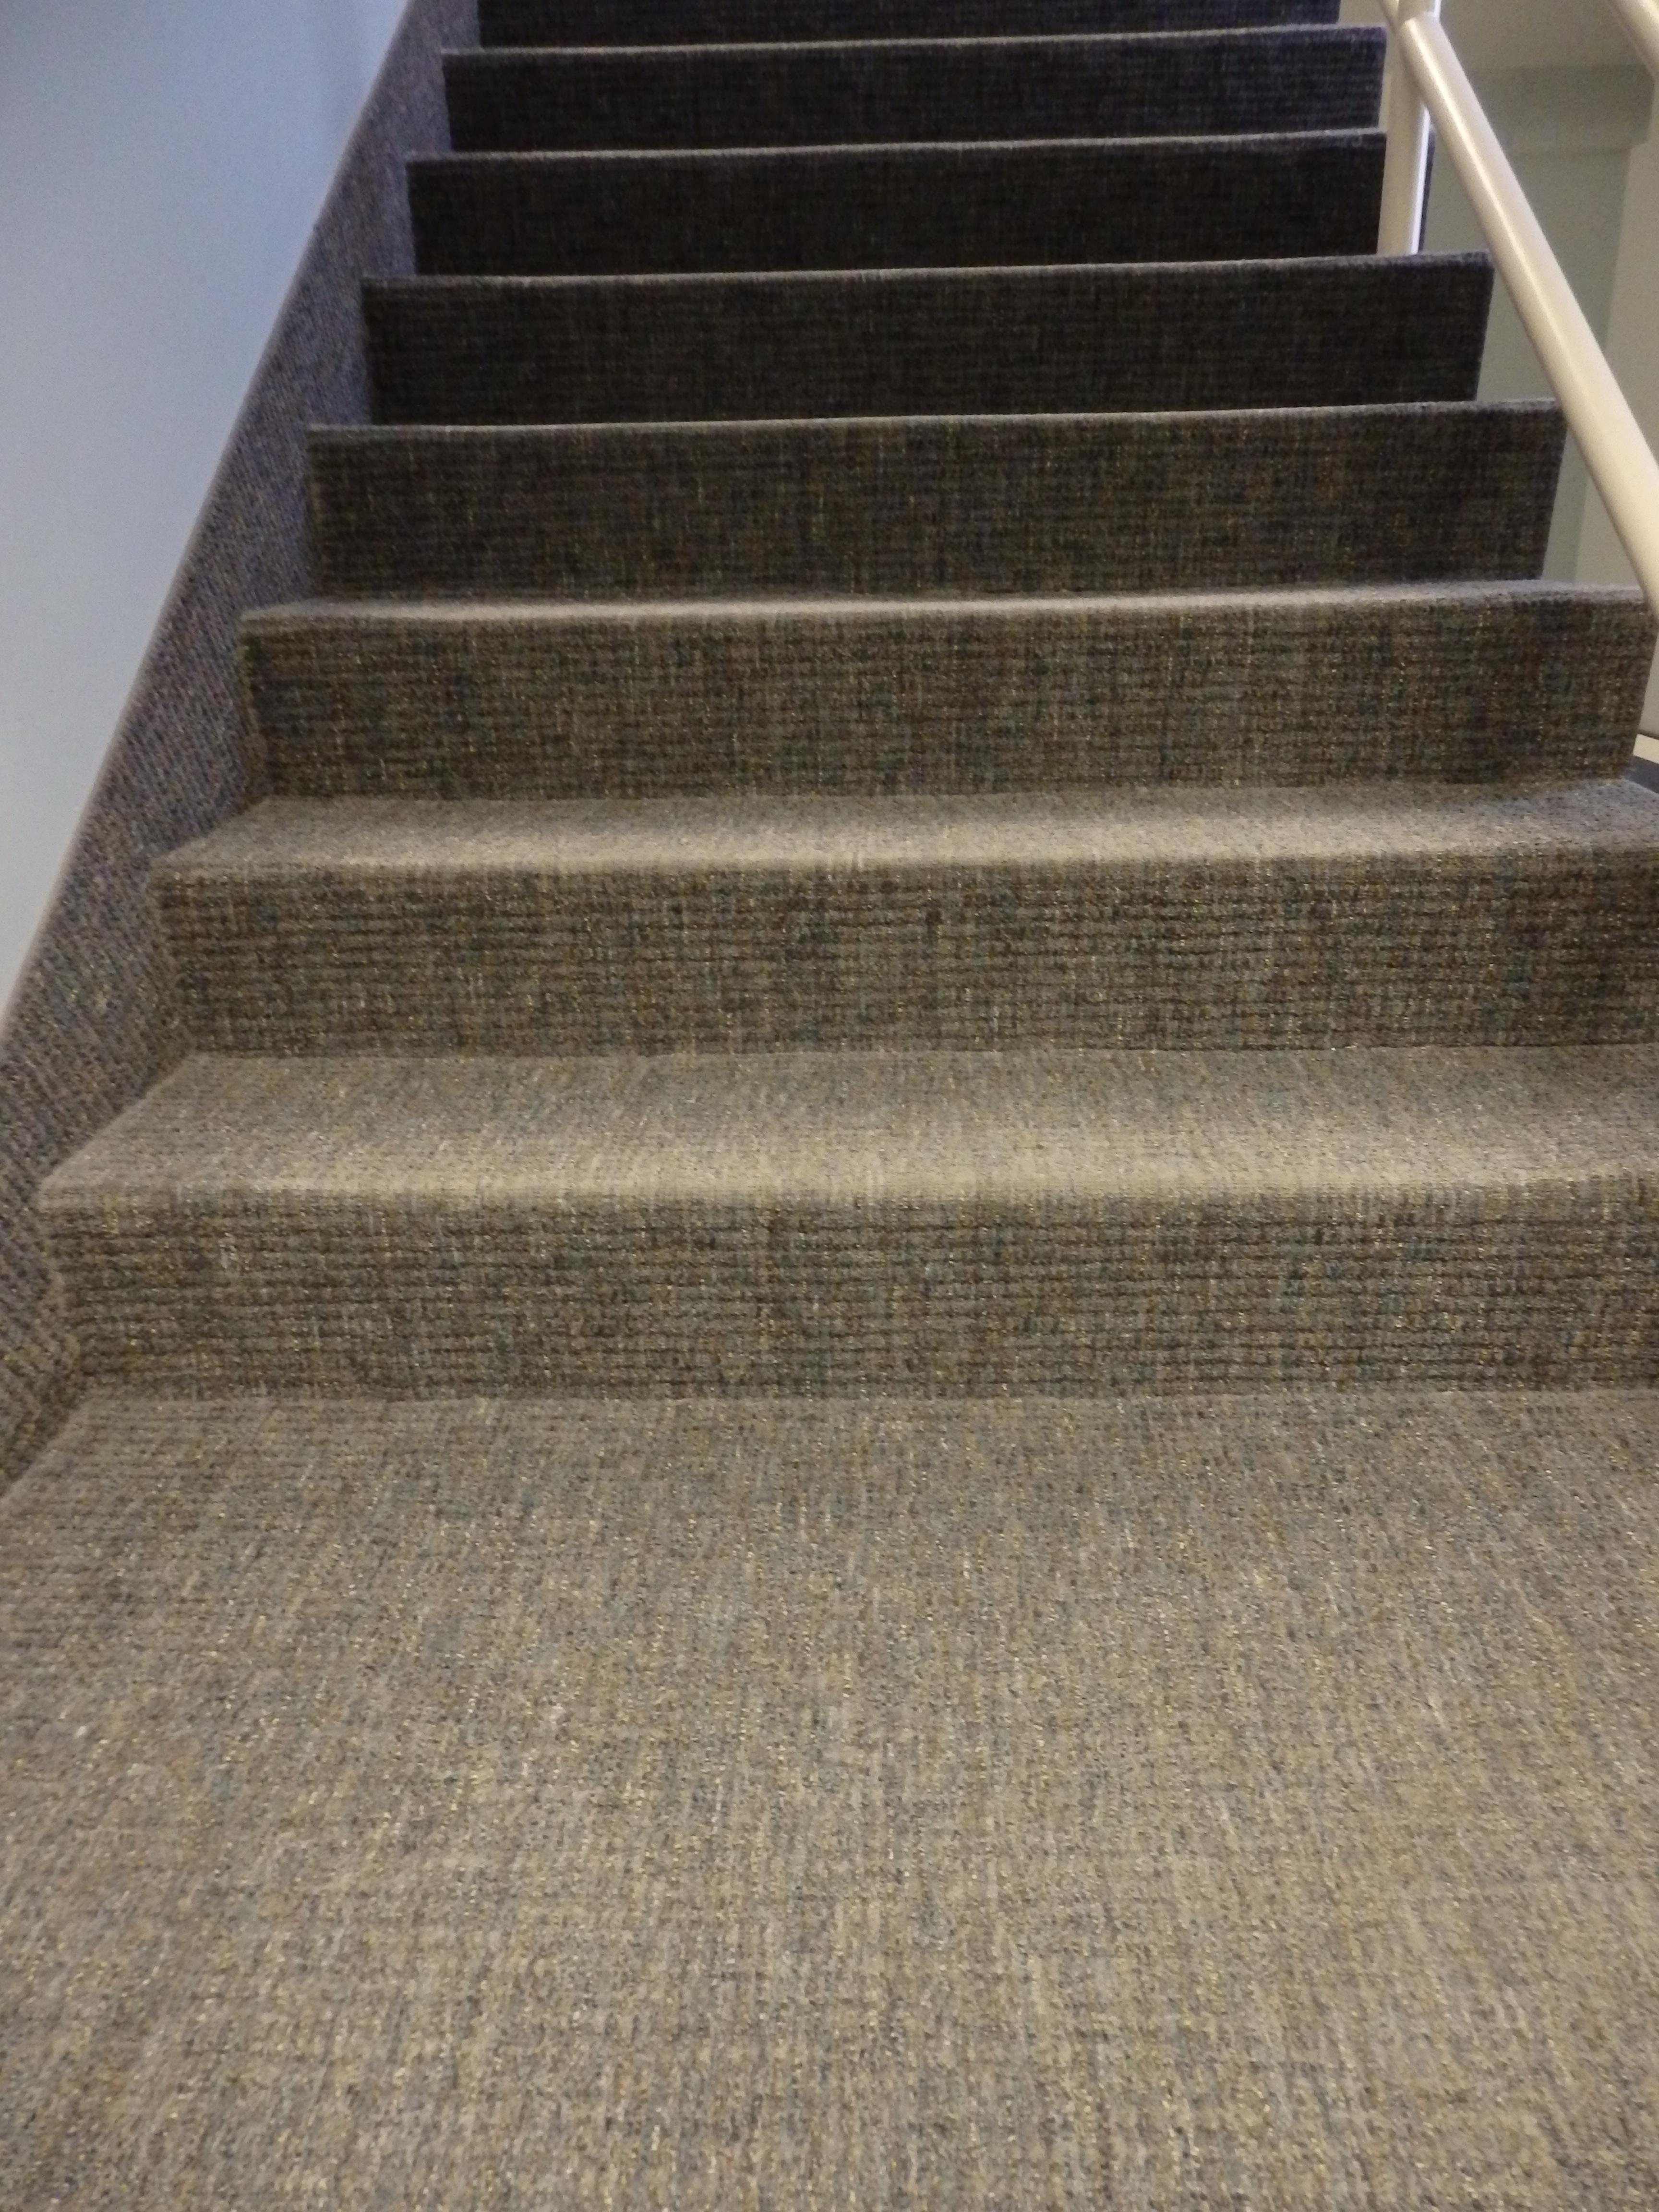stairs_up: (173, 19, 1525, 1397)
